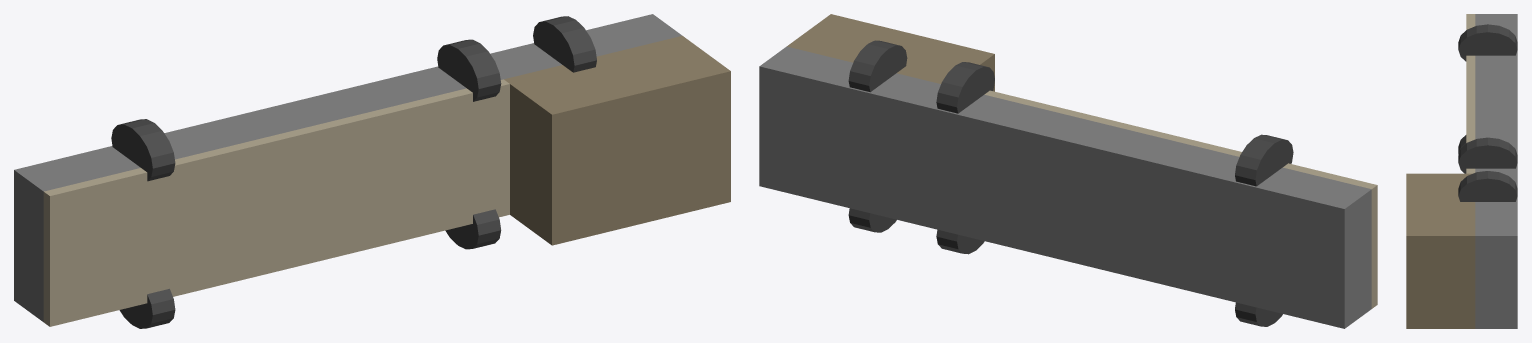
File: curated_flatbed_truck.glb
3 views of the same model, side by side, from view 1: azimuth 30°, elevation 25°; view 2: azimuth 150°, elevation 25°; view 3: azimuth 270°, elevation 25° (orthographic). The views are drawn at different scales.
Visible parts, largest first — view 1: geometry_0; view 2: geometry_0; view 3: geometry_0.
Boxes of the visible parts, x1=… form: geometry_0: x1=14, y1=14, x2=730, y2=328; geometry_0: x1=759, y1=14, x2=1377, y2=328; geometry_0: x1=1406, y1=14, x2=1517, y2=328.
Bounding box in the file's own units: 8.5 × 2.5 × 1.8.
